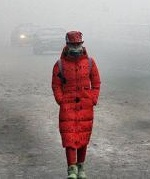person: (50, 28, 101, 179)
